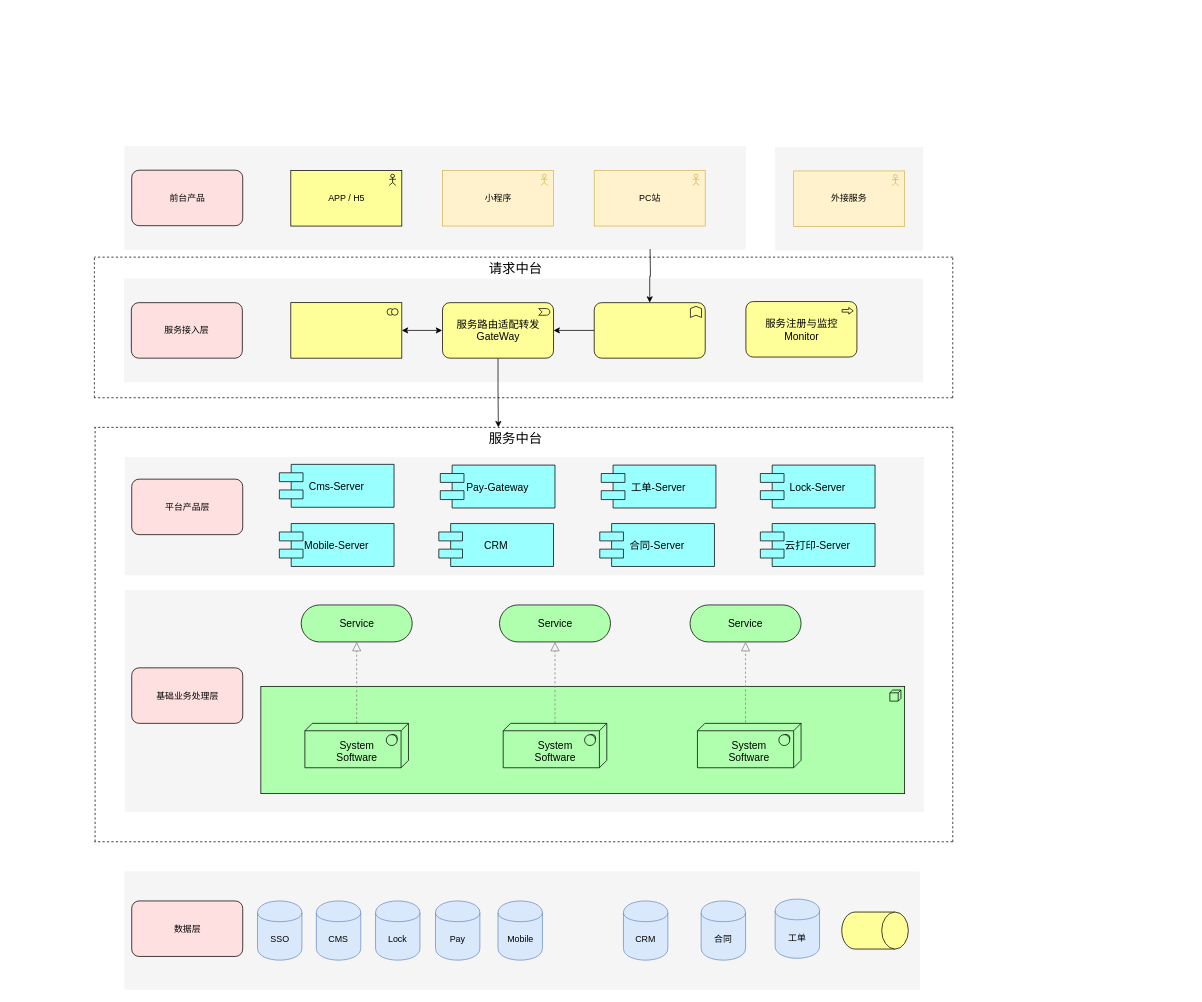
Image size: 1202x1002. Some labels were removed from this diagram. Each missing label, with the centre of its shape:
redis: the point at 874,930
开放链接平台 统一接口: the point at 649,330
统一权限中心 SSO: the point at 346,330
